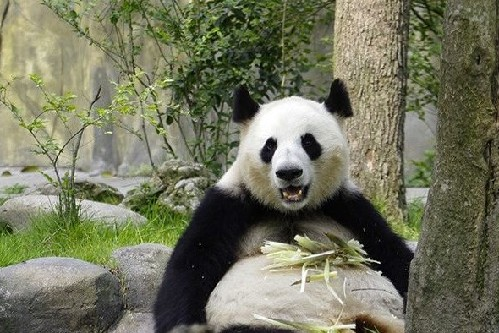panda: (165, 79, 415, 332)
